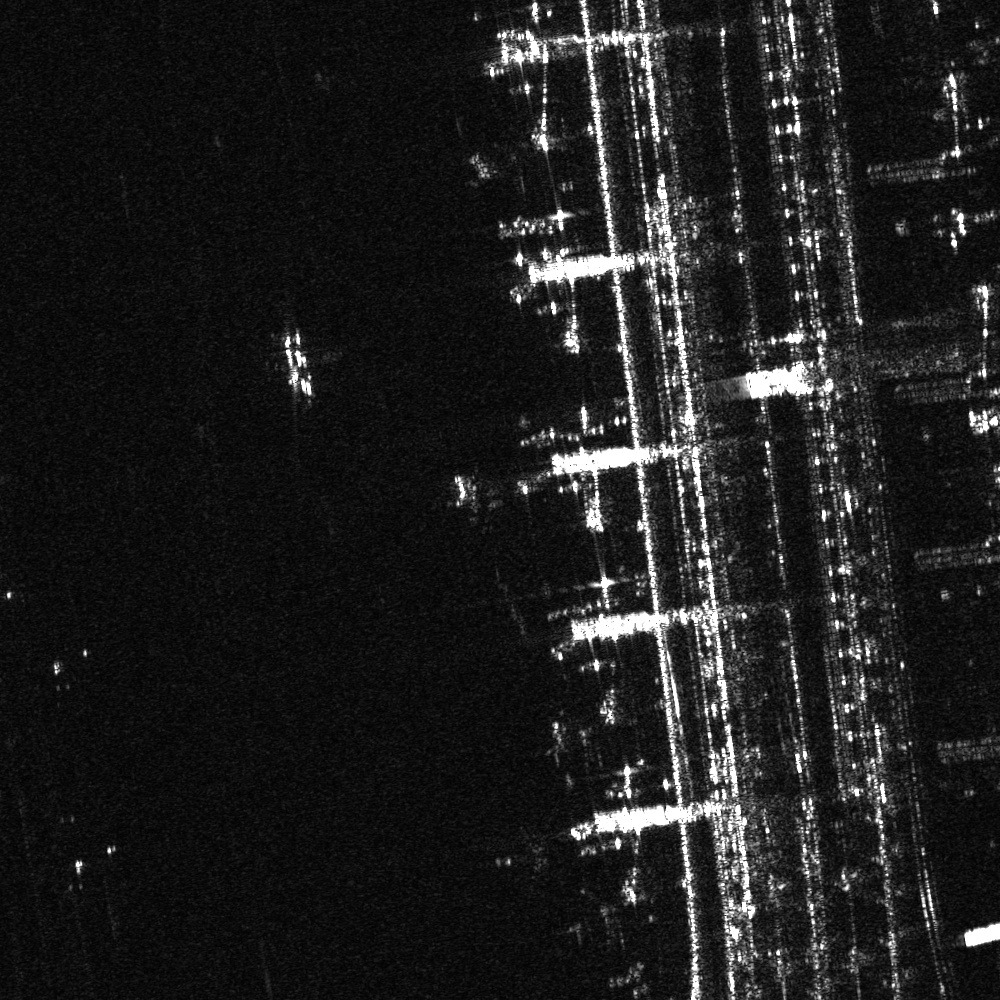Boeing787: (489, 820, 561, 889)
